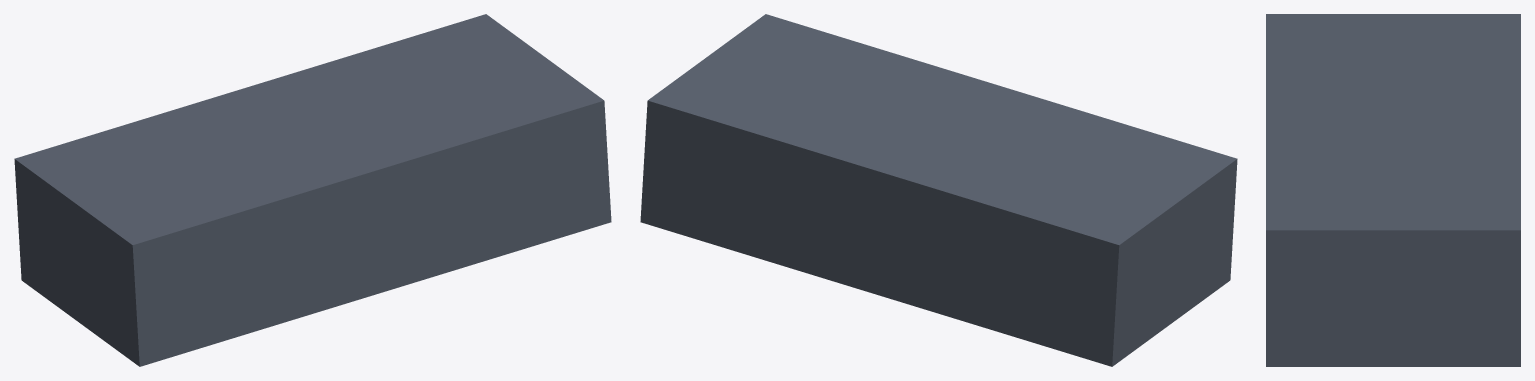
File: EXT_Viaduct_TopLeft.glb
The picture shows the model from 3 angles, left to right: view 1: azimuth 30°, elevation 25°; view 2: azimuth 150°, elevation 25°; view 3: azimuth 270°, elevation 25°; orthographic projection. The views are drawn at different scales.
Parts seen in each view (by area): view 1: EXT_Viaduct_TopLeft; view 2: EXT_Viaduct_TopLeft; view 3: EXT_Viaduct_TopLeft.
Boxes of the visible parts, left/top/right/bottom form: EXT_Viaduct_TopLeft: left=14, top=14, right=611, bottom=366; EXT_Viaduct_TopLeft: left=640, top=14, right=1237, bottom=366; EXT_Viaduct_TopLeft: left=1266, top=14, right=1520, bottom=366.
Size of the model in its own units: 3.04 by 0.9285 by 1.3.
